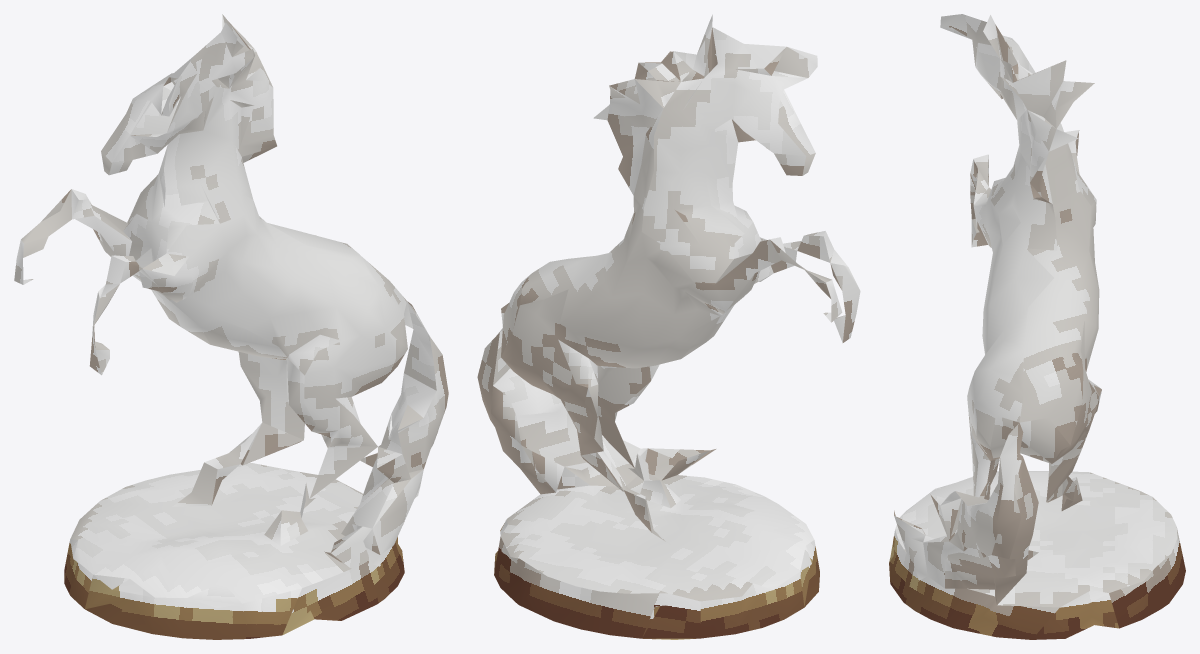
File: horse_statue.glb
The picture shows the model from 3 angles, left to right: view 1: azimuth 30°, elevation 25°; view 2: azimuth 150°, elevation 25°; view 3: azimuth 270°, elevation 25°; orthographic projection. The views are drawn at different scales.
Visible parts, largest first — view 1: mesh; view 2: mesh; view 3: mesh.
Boxes of the visible parts, left/top/right/bottom form: mesh: left=14, top=14, right=448, bottom=639; mesh: left=477, top=14, right=860, bottom=639; mesh: left=889, top=14, right=1185, bottom=639.
Bounding box in the file's own units: 17.34 × 24 × 11.91.
Materials: 1 (1 with a texture image).
